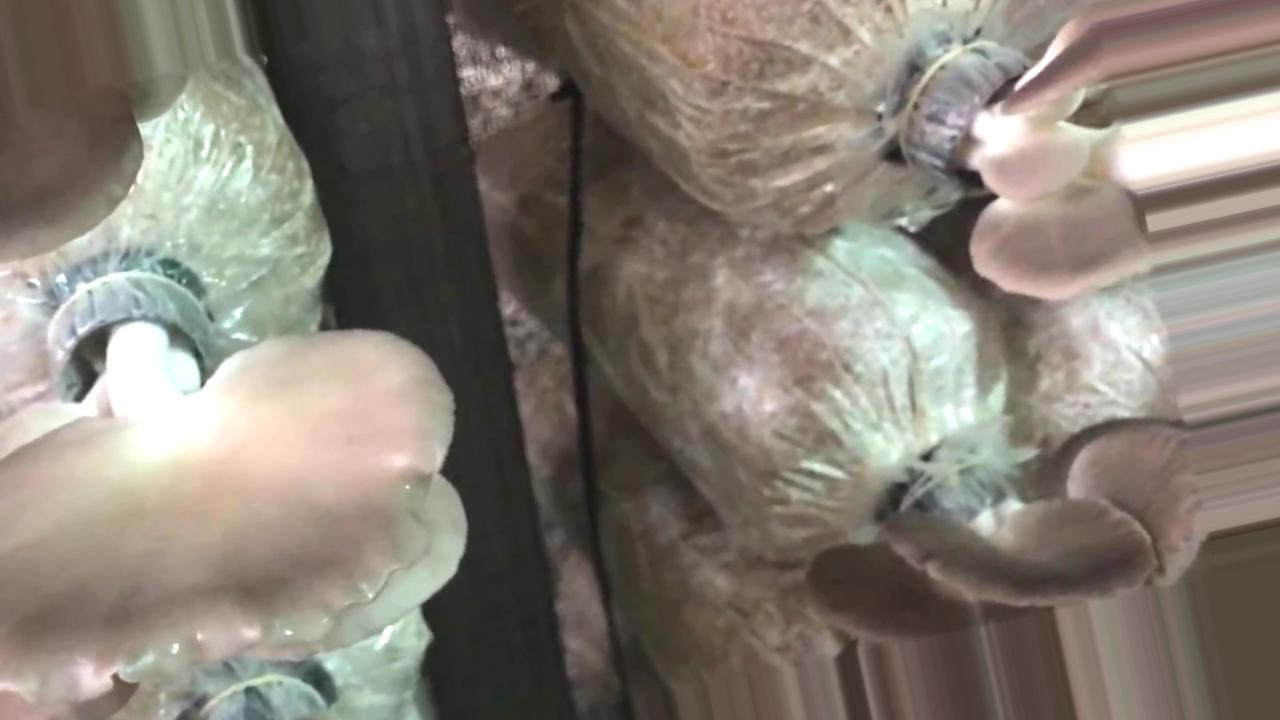nam: (1, 262, 468, 694), (803, 409, 1211, 648), (899, 1, 1153, 305), (1, 6, 195, 264)
